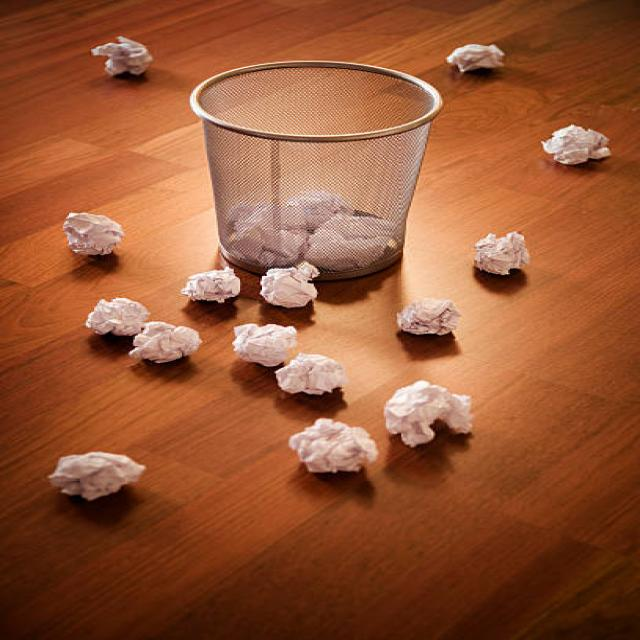electronic: (381, 380, 474, 448), (287, 417, 378, 474), (45, 451, 146, 501), (273, 352, 348, 396), (129, 321, 202, 363), (540, 124, 612, 166), (230, 322, 296, 366), (61, 210, 124, 256), (258, 262, 318, 308), (90, 34, 152, 78), (472, 230, 529, 276), (395, 297, 461, 336), (85, 296, 149, 336), (180, 266, 240, 302), (444, 42, 505, 73)
